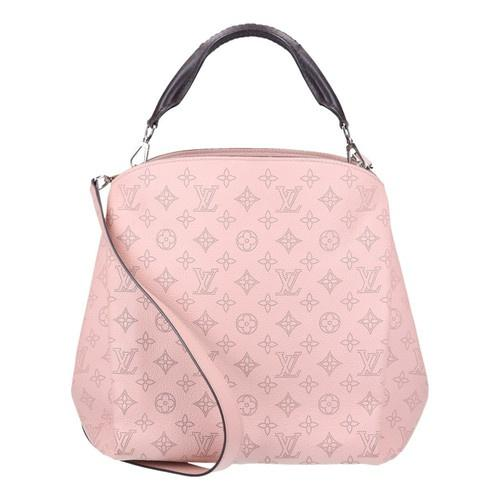LOUIS-VUITTON: (75, 150, 427, 461)
